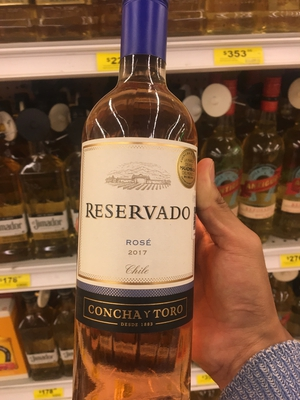reservado rose: (76, 1, 198, 400)
